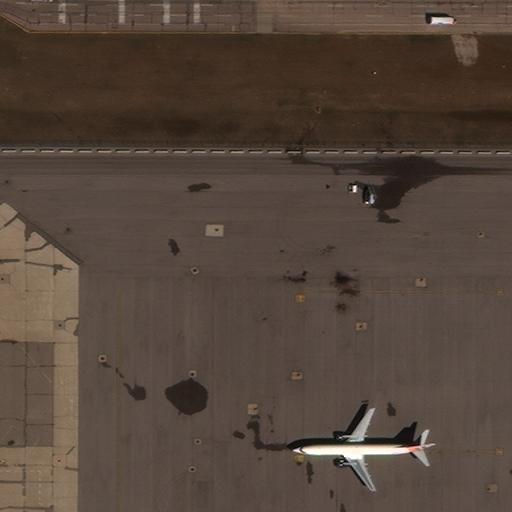Medium Civil Transport: (291, 408, 436, 492)
